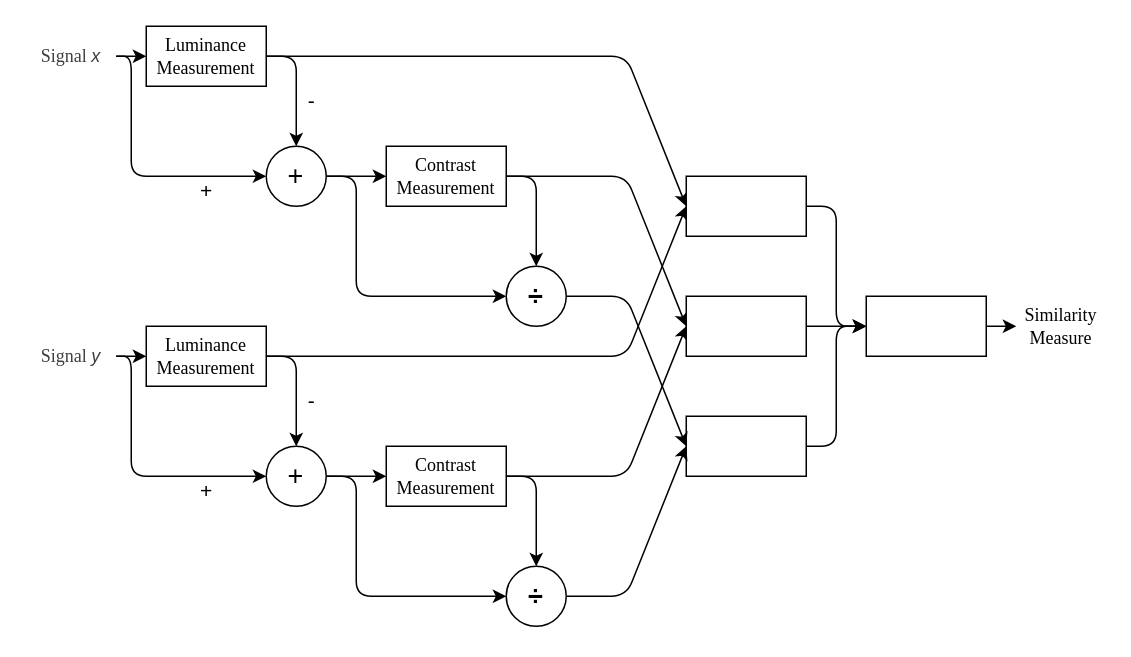
This 1131x657 diagram has some shape labels left out. Here are the shapes that lost their labels. From the top down, the centre of each, then its label:
At (x=745, y=205): "Luminance Comparison".
At (x=745, y=325): "Contrast Comparison".
At (x=925, y=325): "Combination".
At (x=745, y=445): "Structure Comparison".
